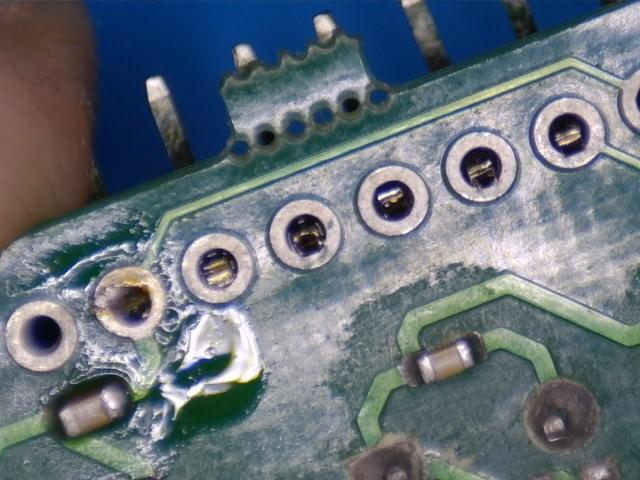Dry_joint: (95, 267, 164, 337)
